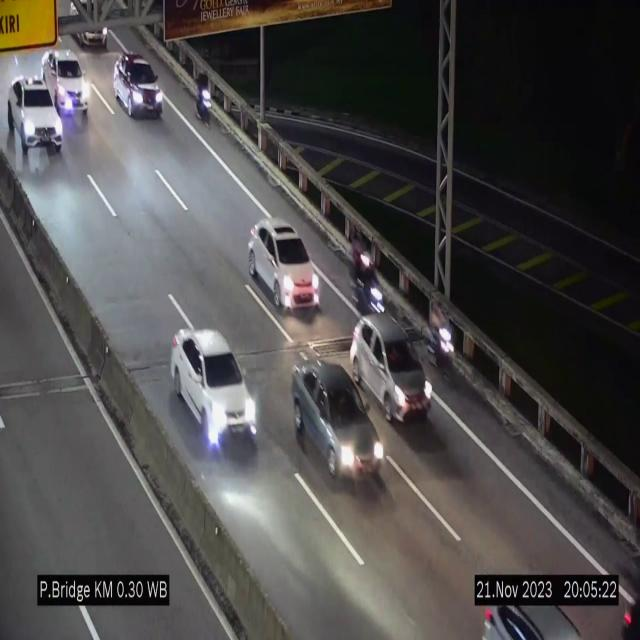Car: (290, 362, 383, 488), (170, 329, 258, 449), (348, 314, 432, 433), (248, 220, 320, 310), (7, 78, 63, 158), (41, 52, 91, 118), (114, 52, 162, 116)
Motorcycle: (428, 298, 457, 385), (356, 245, 386, 321), (195, 72, 211, 124)
